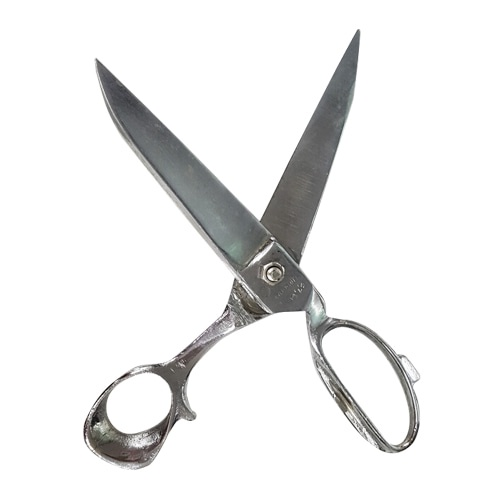scissors: (61, 28, 431, 474)
